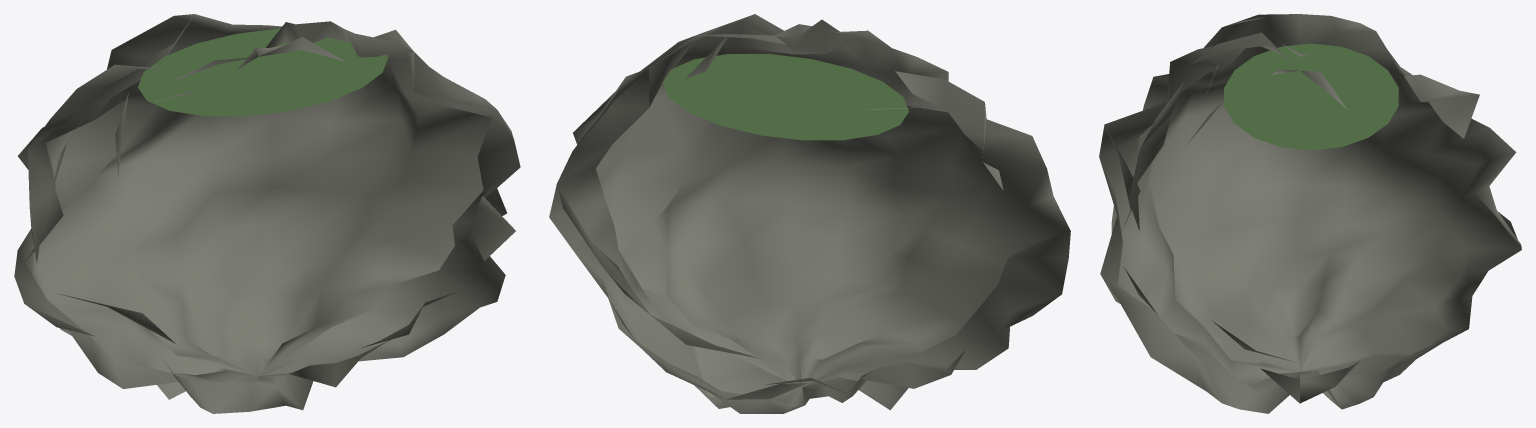
The model's file is rock_0.glb.
The picture shows the model from 3 angles, left to right: view 1: azimuth 30°, elevation 25°; view 2: azimuth 150°, elevation 25°; view 3: azimuth 270°, elevation 25°; orthographic projection. The views are drawn at different scales.
Visible parts, largest first — view 1: rock_mesh, rock_moss; view 2: rock_mesh, rock_moss; view 3: rock_mesh, rock_moss.
Boxes of the visible parts, box(x1,y1,x2,y2) form: rock_mesh: box(14, 14, 520, 413); rock_moss: box(138, 28, 388, 116); rock_mesh: box(549, 14, 1070, 413); rock_moss: box(662, 54, 908, 140); rock_mesh: box(1099, 14, 1521, 413); rock_moss: box(1224, 43, 1398, 150).
Size of the model in its own units: 2.23 by 1.64 by 1.84.
